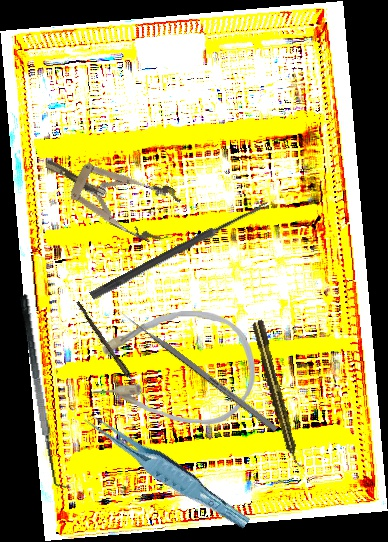Cannula: (90, 309, 256, 425)
Handpiece: (250, 317, 304, 472)
Pusher: (117, 308, 279, 433)
Spatula Surgical: (18, 291, 72, 492)
Speculum: (34, 135, 185, 248)
Surgical Spoon: (89, 198, 270, 302), (73, 300, 151, 404)
Tissue Forceps: (82, 399, 252, 541)
